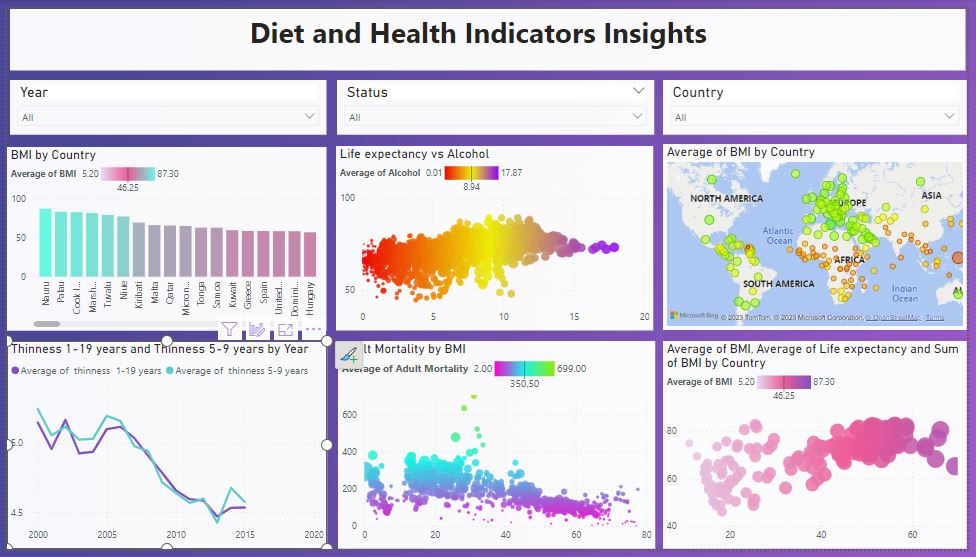

Layout of this report page (visuals, bound fields, positions):
{"tool":"powerbi","page":{"name":"Diet and Health Indicators insights ","canvas":[1280,720],"ordinal":3},"visuals":[{"type":"clusteredColumnChart","title":" BMI by Country","fields":{"Category":["Life Expectancy Data.Country"],"Y":["Avg(Life Expectancy Data.BMI)"]},"box":[0,184.3,426.2,244.8],"z":0},{"type":"scatterChart","title":" Life expectancy  vs Alcohol ","fields":{"Y":["Avg(Life Expectancy Data.Life expectancy )"],"X":["Life Expectancy Data.Alcohol"],"Size":["Sum(Life Expectancy Data.Alcohol)"]},"box":[439.2,182.9,423.4,246.2],"z":1000},{"type":"lineChart","title":"Thinness  1-19 years and  Thinness 5-9 years by Year","fields":{"Category":["Life Expectancy Data.Year"],"Y":["Avg(Life Expectancy Data. thinness  1-19 years)","Avg(Life Expectancy Data. thinness 5-9 years)"]},"box":[0,442.7,426.7,276.7],"z":2000},{"type":"scatterChart","title":" Adult Mortality by BMI","fields":{"Y":["Avg(Life Expectancy Data.Adult Mortality)"],"X":["Life Expectancy Data.BMI"],"Size":["Sum(Life Expectancy Data.Adult Mortality)1"]},"box":[440.9,442.7,423.1,276.7],"z":3000},{"type":"scatterChart","fields":{"X":["Avg(Life Expectancy Data.BMI)"],"Y":["Avg(Life Expectancy Data.Life expectancy )"],"Category":["Life Expectancy Data.Country"],"Size":["Sum(Life Expectancy Data.BMI)1"]},"box":[874.8,442.7,405.2,276.7],"z":4000},{"type":"map","fields":{"Category":["Life Expectancy Data.Country"],"Size":["Avg(Life Expectancy Data.BMI)"]},"box":[874.8,180.3,405.2,248.1],"z":5000},{"type":"slicer","fields":{"Values":["Life Expectancy Data.Country"]},"box":[874.1,95,404.6,73.4],"z":6000},{"type":"slicer","fields":{"Values":["Life Expectancy Data.Year"]},"box":[4.3,95,421.9,73.4],"z":7000},{"type":"slicer","fields":{"Values":["Life Expectancy Data.Status"]},"box":[440.6,95,423.4,73.4],"z":8000},{"type":"textbox","box":[4.3,0,1274.4,82.1],"z":9000}]}

Visuals, with their boxes in screenshot pixels (x1, y1, x2, y2), scaled from the page's 1280x720 canvas onto the 976x557 screenshot:
" BMI by Country" clusteredColumnChart: [0, 143, 325, 332]
" Life expectancy  vs Alcohol " scatterChart: [335, 141, 658, 332]
"Thinness  1-19 years and  Thinness 5-9 years by Year" lineChart: [0, 342, 325, 556]
" Adult Mortality by BMI" scatterChart: [336, 342, 659, 556]
scatterChart - Avg(Life Expectancy Data.BMI) x Avg(Life Expectancy Data.Life expectancy ): [667, 342, 975, 556]
map - Life Expectancy Data.Country x Avg(Life Expectancy Data.BMI): [667, 139, 975, 331]
slicer - Life Expectancy Data.Country: [667, 73, 975, 130]
slicer - Life Expectancy Data.Year: [3, 73, 325, 130]
slicer - Life Expectancy Data.Status: [336, 73, 659, 130]
textbox: [3, 0, 975, 64]
